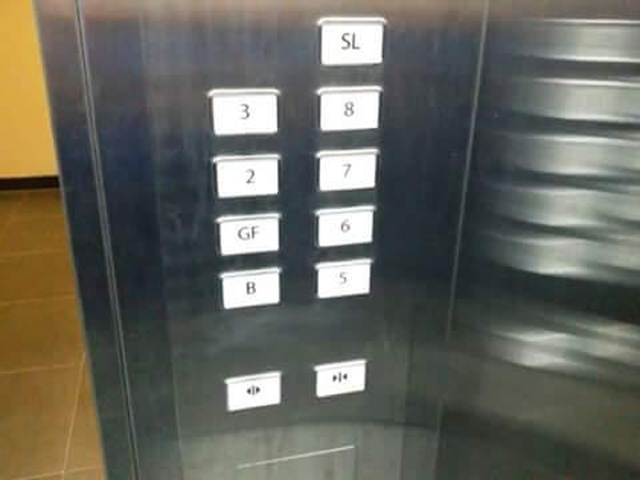2: (211, 150, 283, 203)
3: (206, 86, 285, 138)
5: (311, 256, 375, 301)
6: (312, 203, 379, 250)
7: (313, 146, 379, 195)
8: (315, 83, 384, 135)
B: (216, 266, 285, 312)
GF: (214, 209, 287, 260)
SL: (317, 14, 387, 70)
close: (312, 356, 368, 402)
open: (224, 369, 283, 416)
